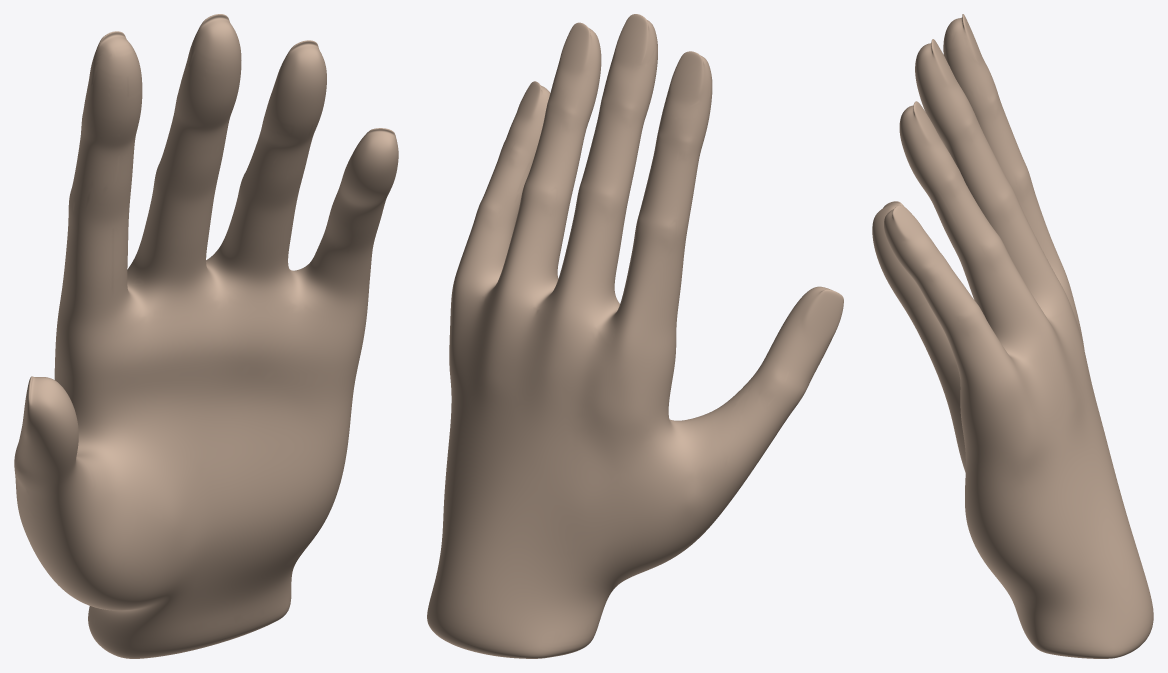
The model's file is sculpt-hand.glb.
The picture shows the model from 3 angles, left to right: view 1: azimuth 30°, elevation 25°; view 2: azimuth 150°, elevation 25°; view 3: azimuth 270°, elevation 25°; orthographic projection. The views are drawn at different scales.
Visible parts, largest first — view 1: sculpt-hand; view 2: sculpt-hand; view 3: sculpt-hand.
Part boxes in pixels (left/top/right/bottom): sculpt-hand: left=14, top=14, right=398, bottom=658; sculpt-hand: left=427, top=14, right=843, bottom=658; sculpt-hand: left=872, top=14, right=1153, bottom=658.
Bounding box in the file's own units: 0.1229 × 0.205 × 0.0915.
